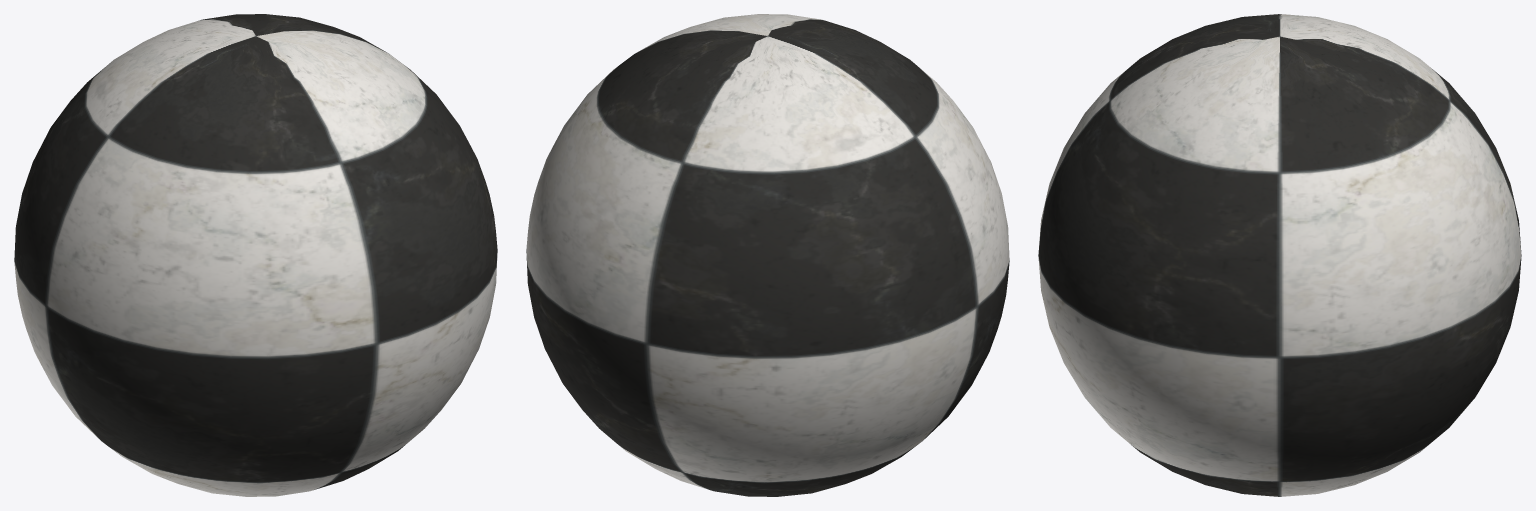
File: geosphere.obj
3 renders of one model, left to right at view 1: azimuth 30°, elevation 25°; view 2: azimuth 150°, elevation 25°; view 3: azimuth 270°, elevation 25°, orthographic.
Parts seen in each view (by area): view 1: object; view 2: object; view 3: object.
Boxes of the visible parts, box(x1,y1,x2,y2) form: object: box(14, 14, 497, 496); object: box(526, 14, 1009, 496); object: box(1038, 14, 1521, 496).
Size of the model in its own units: 1 by 1 by 1.
